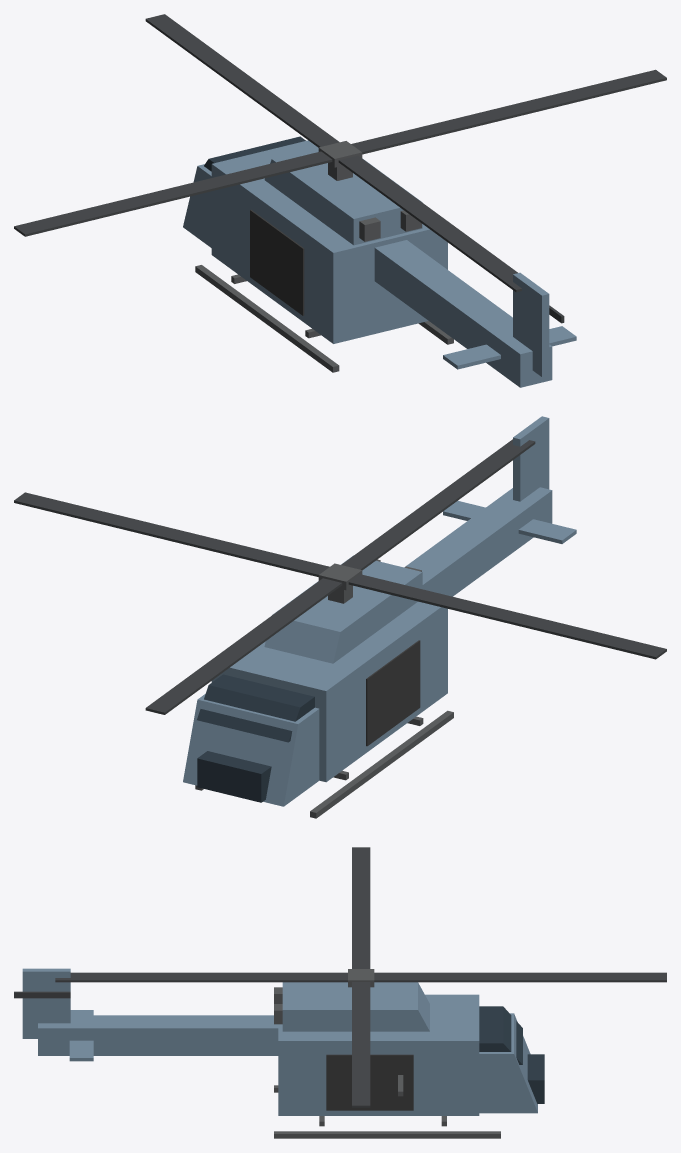
The model's file is helicopter.glb.
3 renders of one model, top to bottom at view 1: azimuth 30°, elevation 25°; view 2: azimuth 150°, elevation 25°; view 3: azimuth 270°, elevation 25°, orthographic. The views are drawn at different scales.
Parts seen in each view (by area): view 1: Helicopter, Rotor; view 2: Helicopter, Rotor; view 3: Helicopter, Rotor.
Boxes of the visible parts, x1=… form: Helicopter: x1=183, y1=136, x2=576, y2=387; Rotor: x1=14, y1=14, x2=666, y2=292; Helicopter: x1=183, y1=416, x2=576, y2=818; Rotor: x1=14, y1=439, x2=666, y2=714; Helicopter: x1=14, y1=968, x2=544, y2=1138; Rotor: x1=55, y1=847, x2=666, y2=1107.
Size of the model in its own units: 14 by 3.64 by 14.95.
